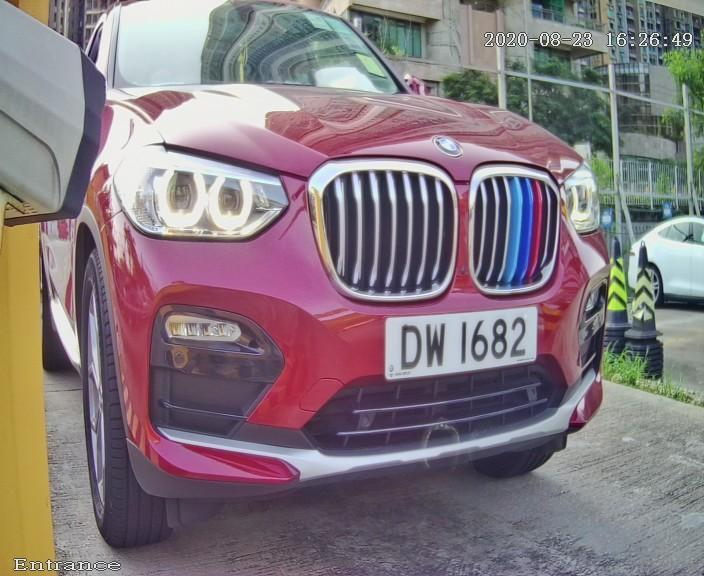Car: (13, 16, 667, 541)
License Plate: (360, 285, 561, 400)
